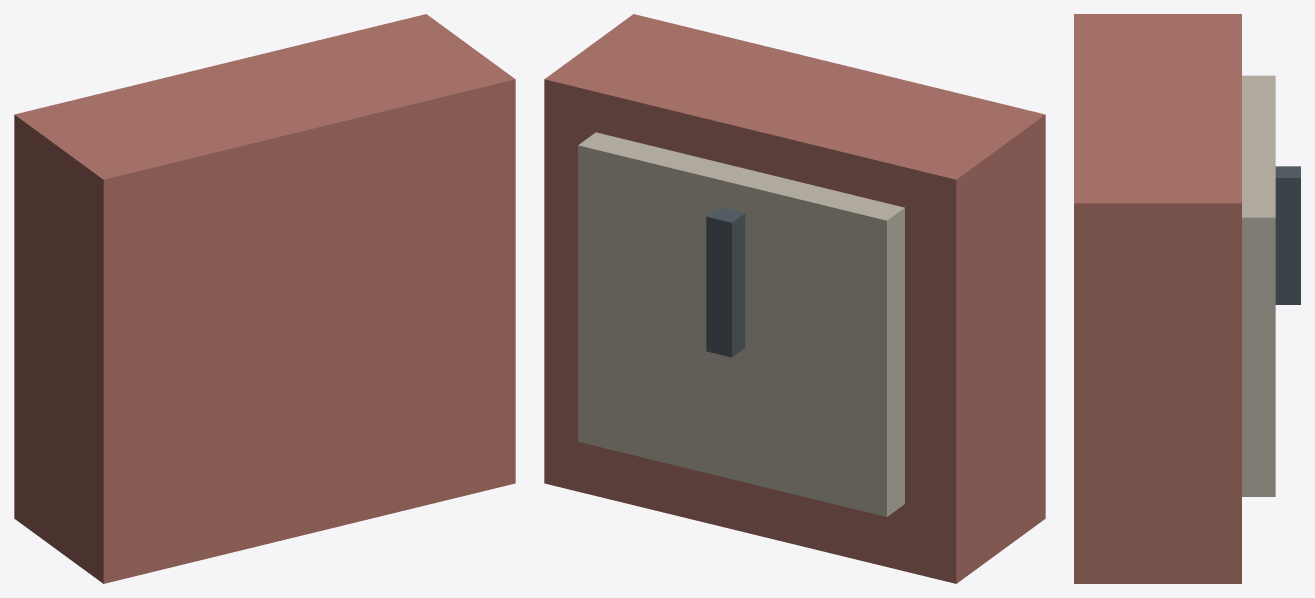
Rendered from alarm_clock.glb.
3 renders of one model, left to right at view 1: azimuth 30°, elevation 25°; view 2: azimuth 150°, elevation 25°; view 3: azimuth 270°, elevation 25°, orthographic. The views are drawn at different scales.
Parts seen in each view (by area): view 1: body; view 2: body; view 3: body.
Boxes of the visible parts, x1,y1,x2,y2 form: body: (14, 14, 515, 583); body: (544, 14, 1045, 583); body: (1074, 14, 1300, 583).
Bounding box in the file's own units: 0.16 × 0.15 × 0.081.
